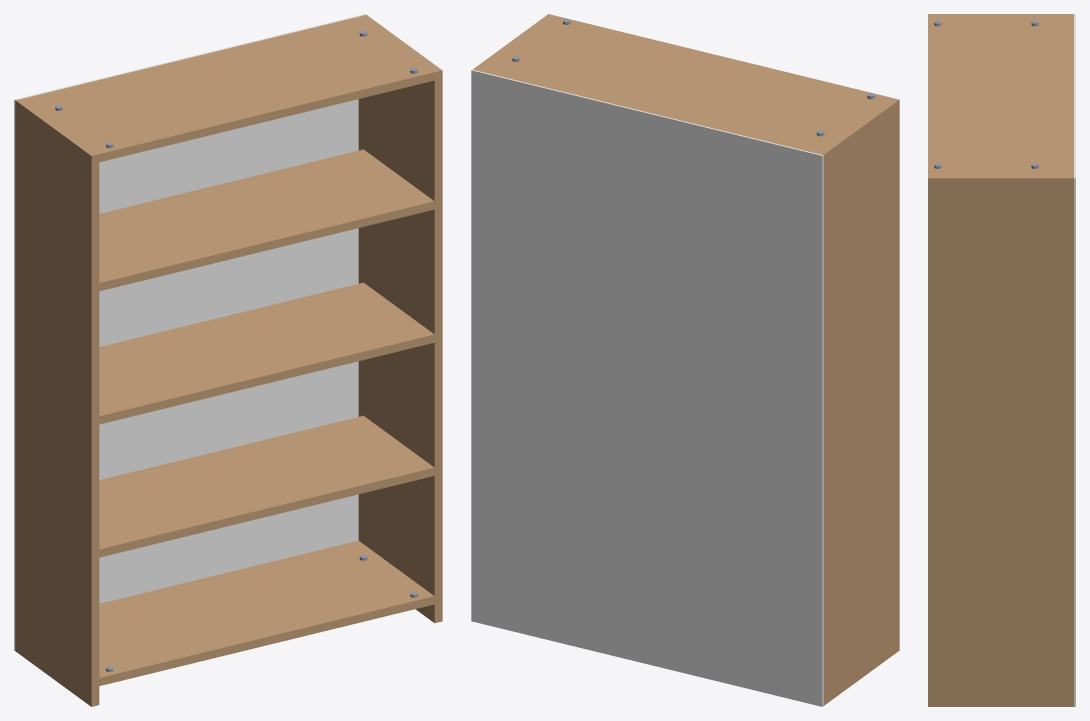
File: bookshelf.glb
The picture shows the model from 3 angles, left to right: view 1: azimuth 30°, elevation 25°; view 2: azimuth 150°, elevation 25°; view 3: azimuth 270°, elevation 25°; orthographic projection. The views are drawn at different scales.
Visible parts, largest first — view 1: back_panel, side_left, side_right, top, bottom, shelf_1, shelf_2, shelf_3; view 2: back_panel, side_left, top; view 3: side_right, top, back_panel, side_left.
Part boxes in pixels (box(x1,y1,x2,y2)): back_panel: box(14, 14, 365, 650); side_left: box(15, 98, 99, 706); side_right: box(358, 14, 442, 623); top: box(23, 16, 434, 162); bottom: box(99, 540, 434, 685); shelf_1: box(99, 415, 434, 557); shelf_2: box(99, 282, 434, 424); shelf_3: box(99, 149, 434, 291); back_panel: box(471, 69, 823, 706); side_left: box(816, 97, 899, 705); top: box(480, 16, 890, 153); side_right: box(928, 174, 1073, 706); top: box(928, 17, 1073, 174); back_panel: box(1074, 14, 1075, 706); side_left: box(928, 14, 1073, 17).
Size of the model in its own units: 0.8 by 1.21 by 0.304.
